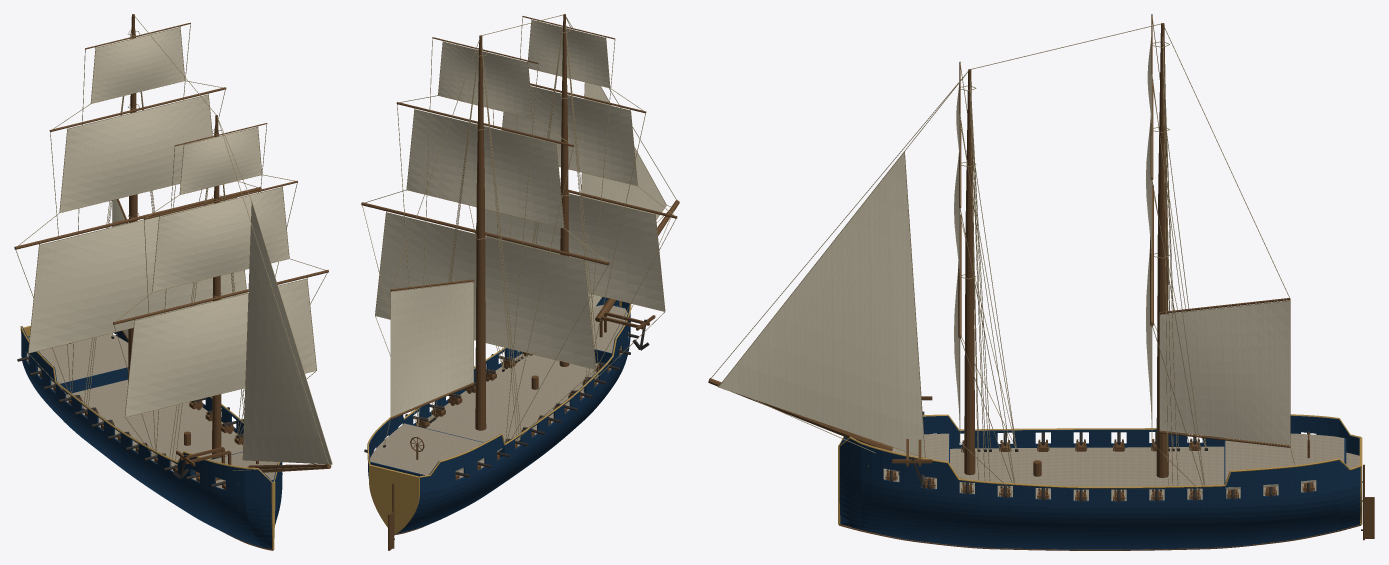
Rendered from ship.glb.
3 views of the same model, side by side, from view 1: azimuth 30°, elevation 25°; view 2: azimuth 150°, elevation 25°; view 3: azimuth 270°, elevation 25° (orthographic). The views are drawn at different scales.
Visible parts, largest first — view 1: main_square_00, fore_square_00, jib_00, hull_shell_starboard, main_square_01, fore_square_01, main_deck, main_square_02, fore_square_02, castle_deck_0, fore, main_square_00_yard (+10 smaller); view 2: main_square_00, main_square_01, fore_square_00, main_gaff_03, hull_shell_starboard, main_deck, fore_square_01, main_square_02, fore_square_02, main, castle_deck_0, jib_00 (+12 smaller); view 3: hull_shell_port, jib_00, main_gaff_03, main_deck, hull_shell_starboard, fore, castle_deck_0, main, gunwale_port, keel.
Part boxes in pixels (x1,y1,x2,y2): main_square_00: [28, 197, 246, 352]; fore_square_00: [125, 279, 316, 416]; jib_00: [243, 203, 331, 463]; hull_shell_starboard: [21, 326, 272, 548]; main_square_01: [60, 95, 212, 212]; fore_square_01: [153, 187, 289, 291]; main_deck: [27, 353, 242, 488]; main_square_02: [91, 27, 184, 103]; fore_square_02: [180, 127, 261, 194]; castle_deck_0: [28, 333, 128, 383]; fore: [212, 115, 221, 459]; main_square_00_yard: [14, 187, 261, 249]; main_square_00: [375, 213, 595, 368]; main_square_01: [407, 110, 563, 227]; fore_square_00: [476, 194, 664, 311]; main_gaff_03: [391, 282, 473, 416]; hull_shell_starboard: [397, 301, 630, 533]; main_deck: [426, 332, 628, 478]; fore_square_01: [502, 86, 637, 185]; main_square_02: [438, 42, 532, 117]; fore_square_02: [528, 20, 609, 87]; main: [475, 35, 486, 430]; castle_deck_0: [370, 423, 502, 475]; jib_00: [581, 82, 666, 312]; hull_shell_port: [839, 438, 1360, 549]; jib_00: [719, 152, 924, 457]; main_gaff_03: [1160, 301, 1289, 444]; main_deck: [883, 446, 1359, 500]; hull_shell_starboard: [839, 415, 1359, 455]; fore: [964, 69, 975, 475]; castle_deck_0: [1225, 433, 1344, 489]; main: [1156, 23, 1168, 477]; gunwale_port: [839, 436, 1361, 488]; keel: [839, 524, 1361, 550].
Size of the model in its own units: 21.43 by 37.95 by 43.44.
Materials: 7 (7 with a texture image).
